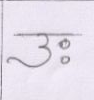anusvara: (59, 39, 70, 49)
